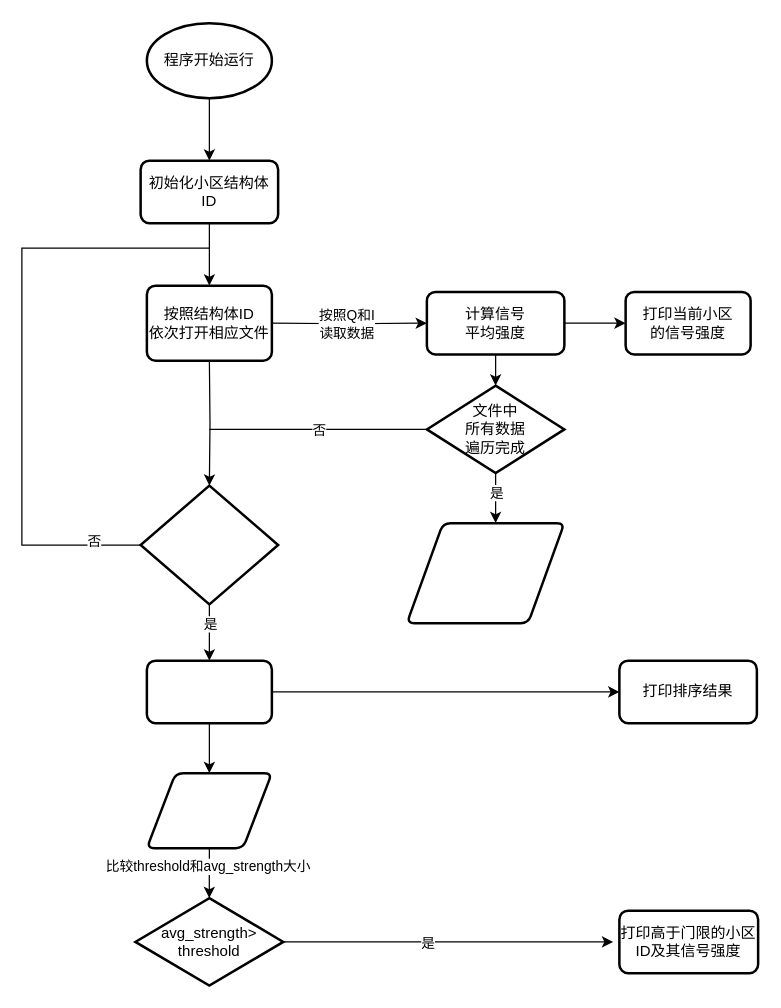
Image size: 781x1008. Some labels were removed from this diagram. The centre of each missing label's shape, as x and y in pixels:
"12个文件数据 全部读取完毕" goes at point (209, 544).
"存储计算结果于 小区结构体 avg_strength中" goes at point (485, 572).
"对12个小区信号强度进行冒泡排序" goes at point (208, 691).
"输入强度门限 threshold" goes at point (208, 810).
